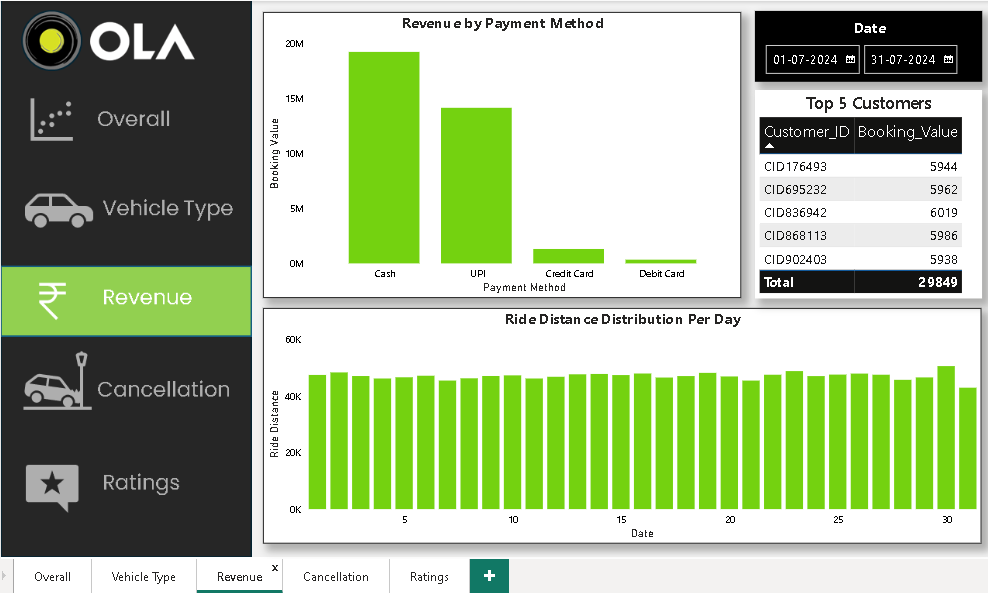

The page's visual inventory and layout, read from the dashboard file:
{"tool":"powerbi","page":{"name":"Revenue","canvas":[1280,720],"ordinal":2},"visuals":[{"type":"actionButton","box":[0,216.9,324.6,90.7],"z":0},{"type":"actionButton","box":[0,449.3,324.6,90.7],"z":1000},{"type":"actionButton","box":[0,581.1,324.6,90.7],"z":2000},{"type":"actionButton","box":[0,103.5,324.6,90.7],"z":3000},{"type":"clusteredColumnChart","title":"Revenue by Payment Method","fields":{"Category":["Bookings-100000-Rows.Payment_Method"],"Y":["Sum(Bookings-100000-Rows.Booking_Value)"]},"box":[337.7,13.6,616.6,369.4],"z":4000},{"type":"clusteredColumnChart","title":"Ride Distance Distribution Per Day","fields":{"Y":["Sum(Bookings-100000-Rows.Ride_Distance)"],"Category":["Bookings-100000-Rows.Date.Variation.Date Hierarchy.Day"]},"box":[338.3,396.6,926.6,304.5],"z":5000},{"type":"slicer","title":"Date","fields":{"Values":["Bookings-100000-Rows.Date"]},"box":[972.3,12.8,293.4,90.7],"z":6000},{"type":"tableEx","title":"Top 5 Customers","fields":{"Values":["Bookings-100000-Rows.Customer_ID","Sum(Bookings-100000-Rows.Booking_Value)"]},"box":[972.3,114.8,293.4,269.3],"z":7000}]}

Visuals, with their boxes on the page's 1280x720 design canvas (x1, y1, x2, y2). These are canvas units, not pixel positions in the 988x593 screenshot, which may show the page scaled, cropped or inside an application window:
actionButton: [x1=0, y1=217, x2=325, y2=308]
actionButton: [x1=0, y1=449, x2=325, y2=540]
actionButton: [x1=0, y1=581, x2=325, y2=672]
actionButton: [x1=0, y1=104, x2=325, y2=194]
"Revenue by Payment Method" clusteredColumnChart: [x1=338, y1=14, x2=954, y2=383]
"Ride Distance Distribution Per Day" clusteredColumnChart: [x1=338, y1=397, x2=1265, y2=701]
"Date" slicer: [x1=972, y1=13, x2=1266, y2=104]
"Top 5 Customers" tableEx: [x1=972, y1=115, x2=1266, y2=384]
